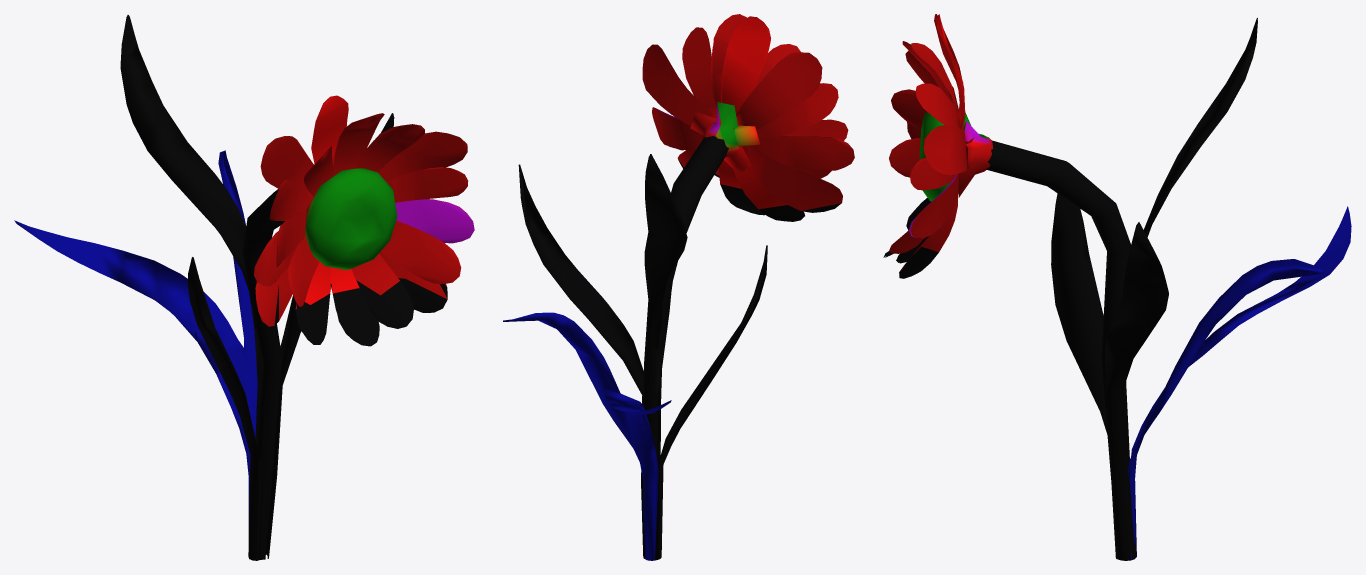
File: flower_03_daisy.glb
The picture shows the model from 3 angles, left to right: view 1: azimuth 30°, elevation 25°; view 2: azimuth 150°, elevation 25°; view 3: azimuth 270°, elevation 25°; orthographic projection. The views are drawn at different scales.
Parts seen in each view (by area): view 1: Flower_Petals, Flower_Leaves, Flower_Stem; view 2: Flower_Petals, Flower_Leaves, Flower_Stem; view 3: Flower_Leaves, Flower_Petals, Flower_Stem.
Part boxes in pixels (bbox=[...]): Flower_Petals: bbox=[254, 95, 474, 326]; Flower_Leaves: bbox=[14, 15, 394, 560]; Flower_Stem: bbox=[242, 218, 447, 560]; Flower_Petals: bbox=[642, 14, 854, 210]; Flower_Leaves: bbox=[503, 135, 767, 560]; Flower_Stem: bbox=[659, 159, 841, 460]; Flower_Leaves: bbox=[986, 18, 1351, 560]; Flower_Petals: bbox=[889, 14, 993, 271]; Flower_Stem: bbox=[883, 198, 1130, 479].
Bounding box in the file's own units: 0.7194 × 1.34 × 1.07.
